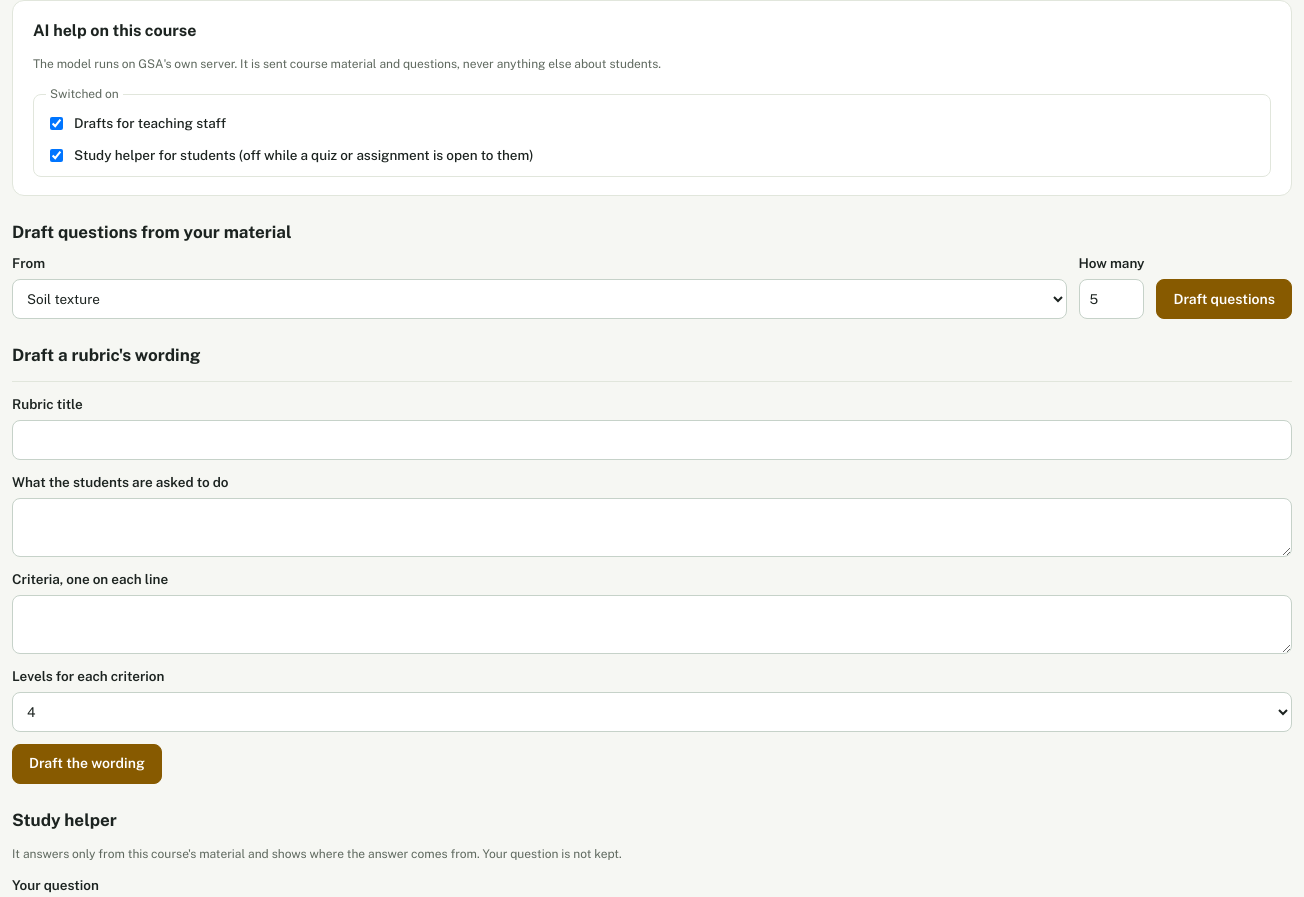
Test: AI help for teaching staff (item 6.11) › switches AI help on or off for the course
Click the checkbox labelled "Study helper for students": {"x": 56, "y": 155} [50,149,63,162]
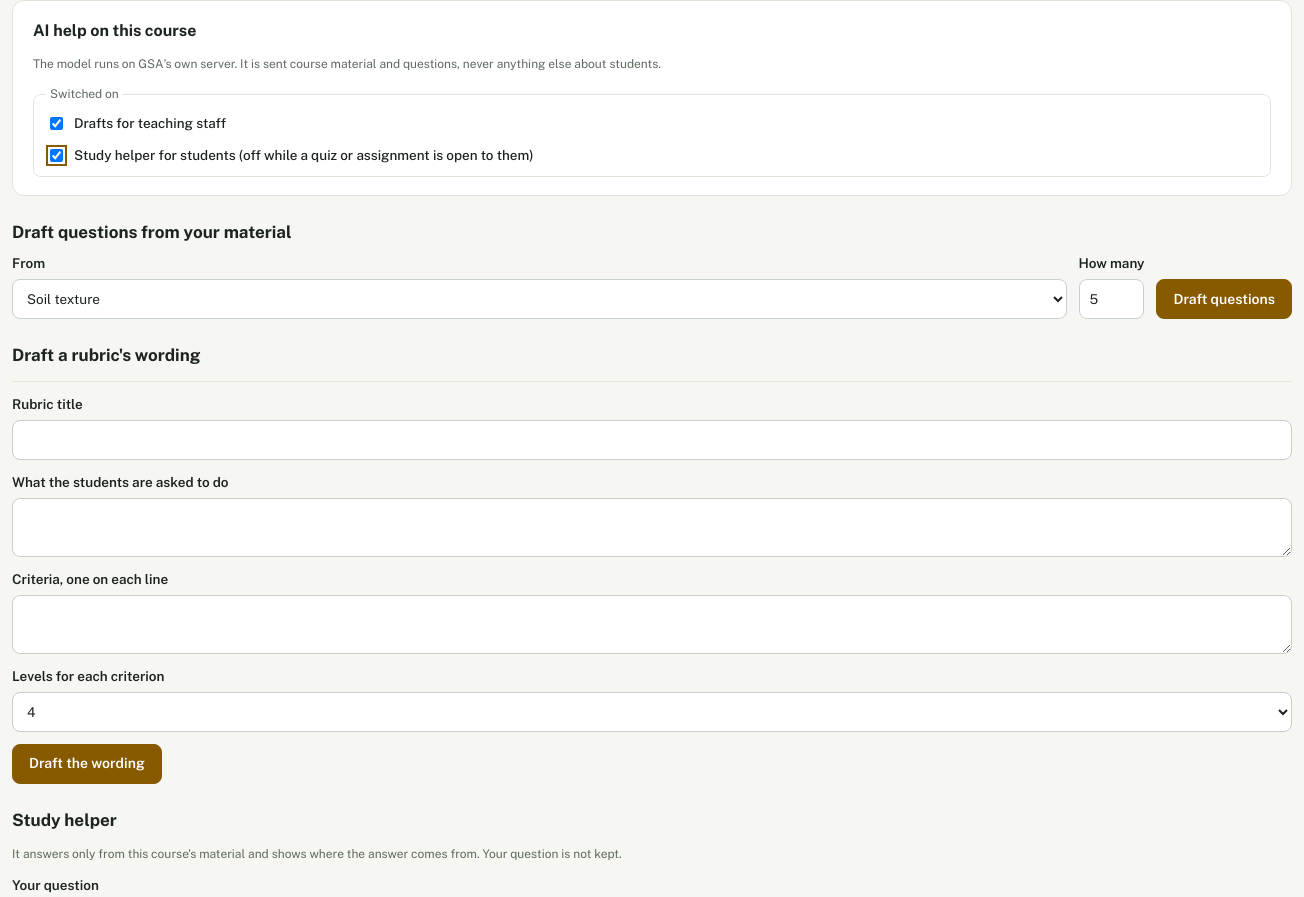
Click the checkbox labelled "Drafts for teaching staff": {"x": 56, "y": 123} [50,117,63,130]
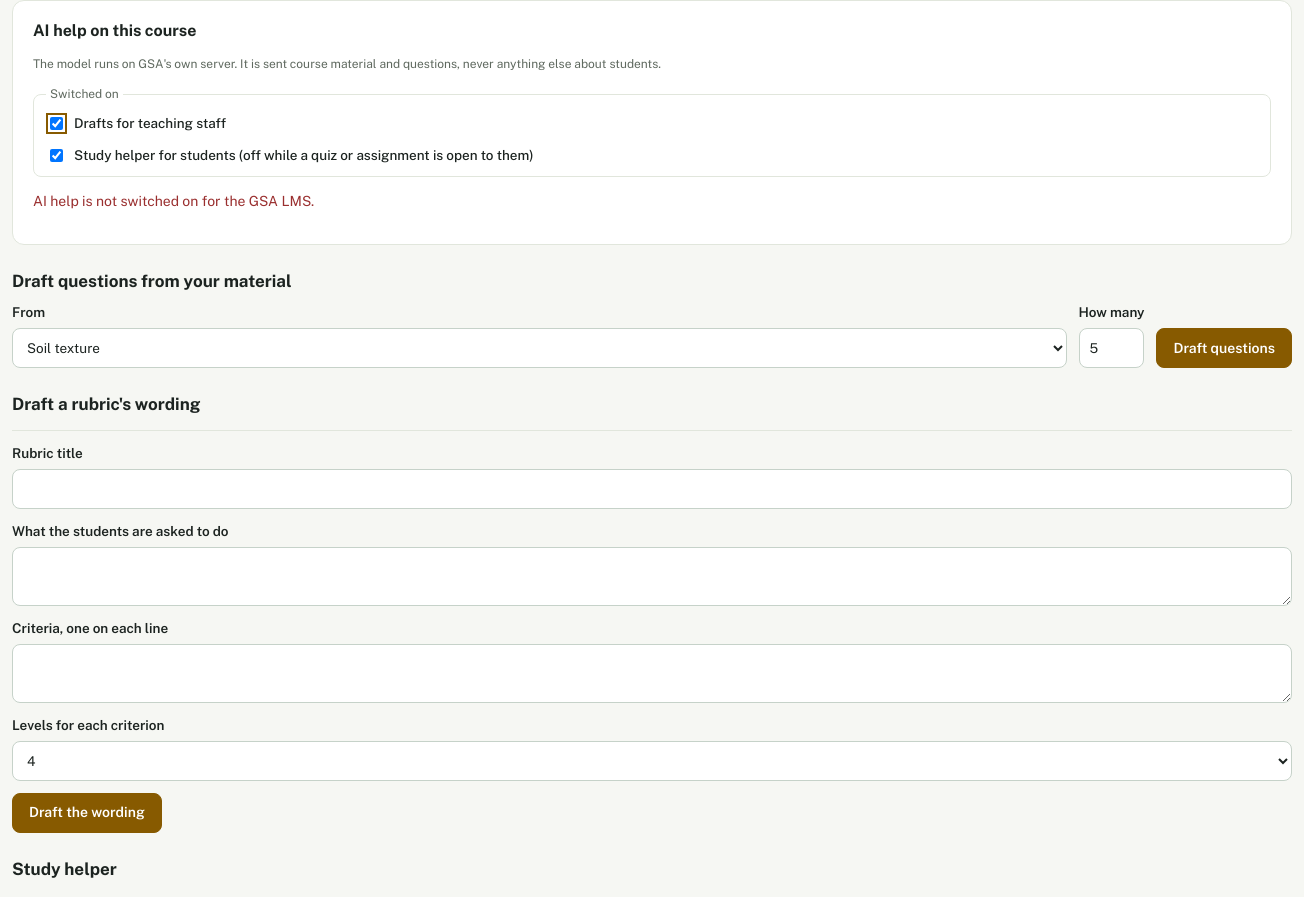
Check: the message reads "AI help is not switched on for the GSA LMS.", box [33,192,314,208]
